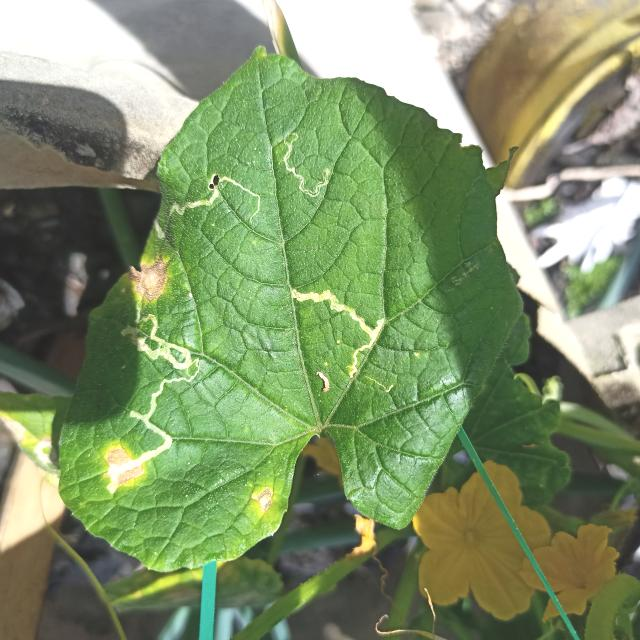disease_cucumber: (128, 253, 174, 308), (103, 443, 144, 488), (253, 487, 274, 511)
